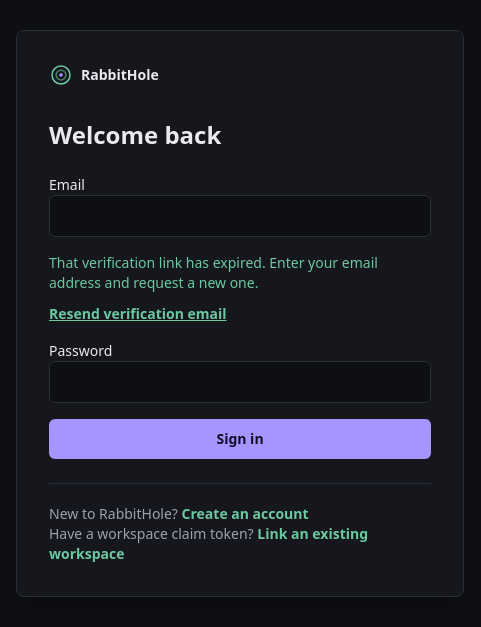
Scenario: authentication pages › requires an email address before resending verification
Click the button "Resend verification email": (138, 314) top-left (49, 304), bottom-right (226, 324)
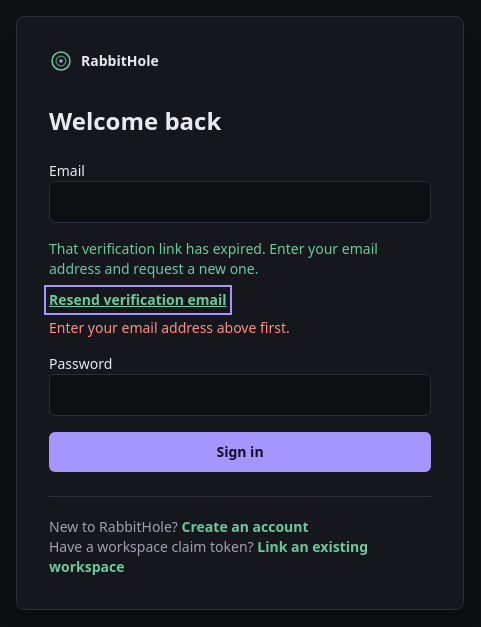
Expected: the message "Enter your email address above first." is shown, top-left (49, 318), bottom-right (290, 337)
